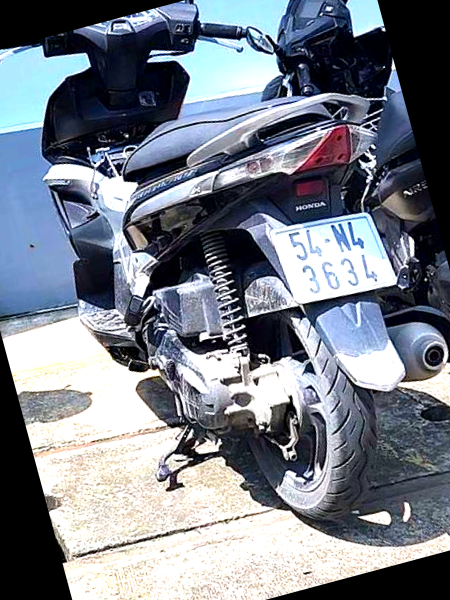number: (270, 213, 396, 303)
